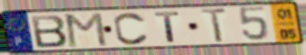5: (237, 5, 271, 43)
B: (29, 14, 70, 49)
C: (113, 11, 151, 47)
M: (64, 11, 109, 49)
T: (199, 7, 229, 44), (152, 10, 182, 44)
